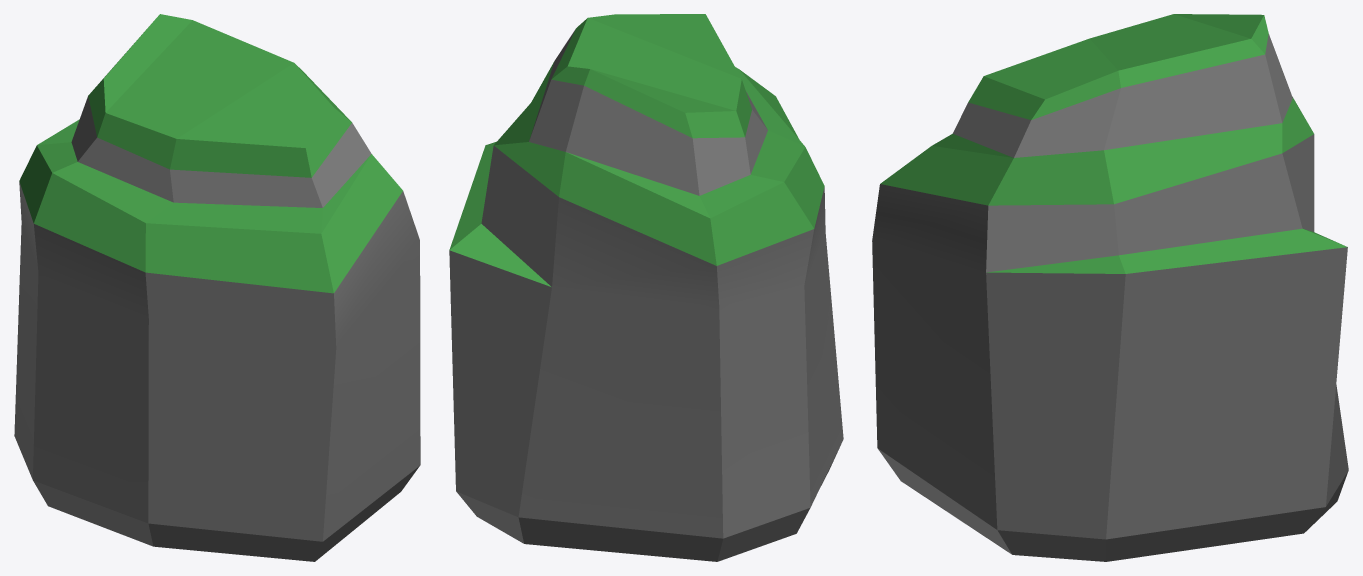
File: Rock_D.fbx
The picture shows the model from 3 angles, left to right: view 1: azimuth 30°, elevation 25°; view 2: azimuth 150°, elevation 25°; view 3: azimuth 270°, elevation 25°; orthographic projection. The views are drawn at different scales.
Parts seen in each view (by area): view 1: Rock_D; view 2: Rock_D; view 3: Rock_D.
Part boxes in pixels (<box>): Rock_D: <box>14,14,420,561</box>; Rock_D: <box>449,14,843,561</box>; Rock_D: <box>872,14,1348,561</box>.
Size of the model in its own units: 580 by 724 by 660.
